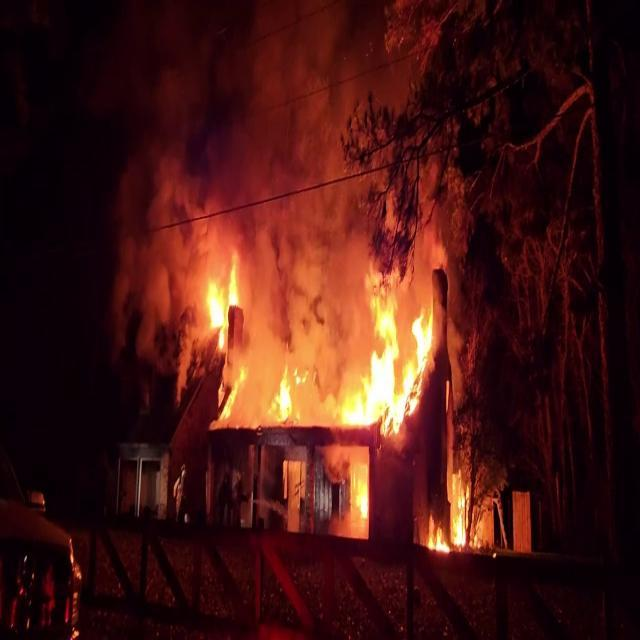Fire: (192, 252, 317, 432), (340, 282, 437, 436), (442, 458, 477, 552), (340, 451, 372, 544)
Smoke: (112, 2, 376, 312)
